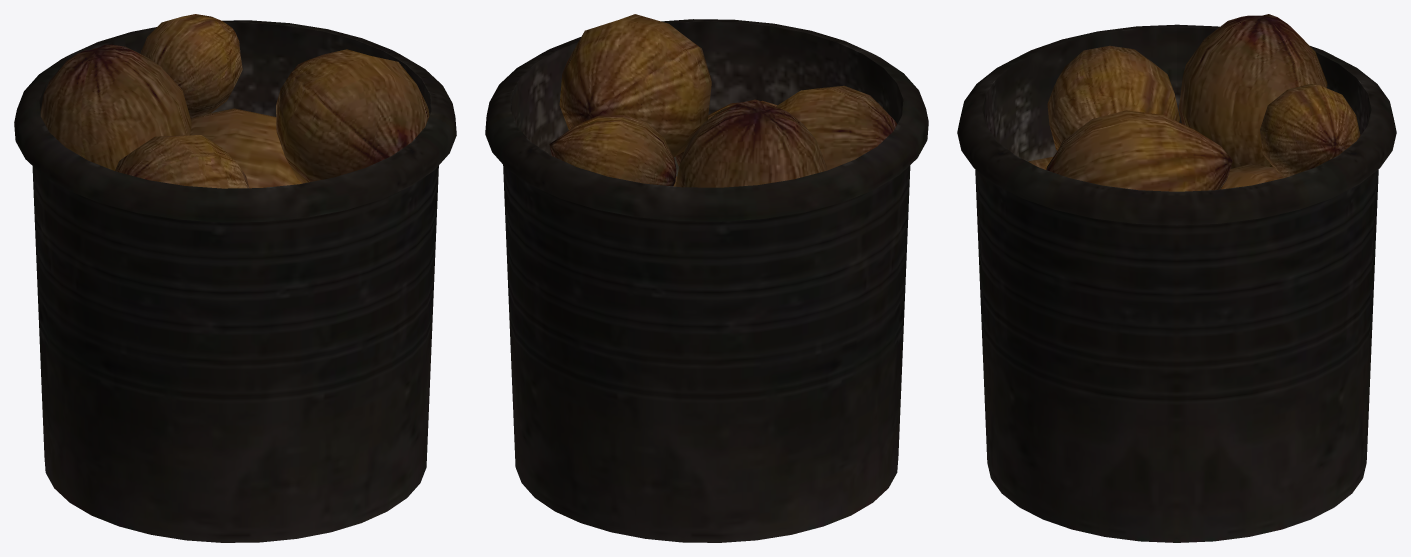
File: coconutbucket.glb
3 views of the same model, side by side, from view 1: azimuth 30°, elevation 25°; view 2: azimuth 150°, elevation 25°; view 3: azimuth 270°, elevation 25° (orthographic).
Visible parts, largest first — view 1: CoconutBucket; view 2: CoconutBucket; view 3: CoconutBucket.
Part boxes in pixels (x1=…): CoconutBucket: x1=14, y1=14, x2=456, y2=542; CoconutBucket: x1=485, y1=14, x2=928, y2=542; CoconutBucket: x1=957, y1=14, x2=1396, y2=542.
Size of the model in its own units: 0.5486 by 0.5524 by 0.5486.
2 materials, 2 textured.
